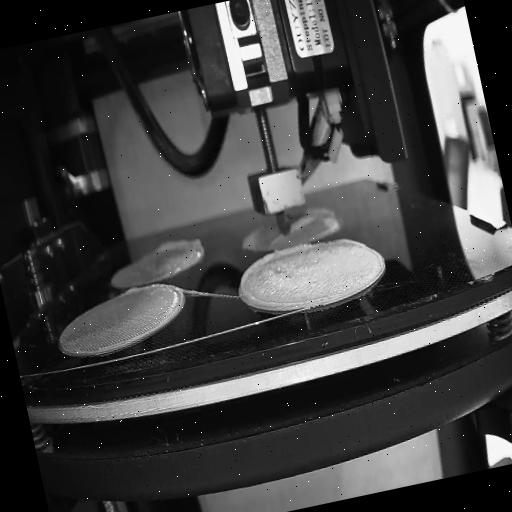over_extrusion: (232, 240, 328, 322), (152, 233, 202, 258), (331, 232, 367, 256), (320, 208, 342, 240), (288, 211, 318, 233), (121, 282, 146, 294), (266, 232, 287, 246)
